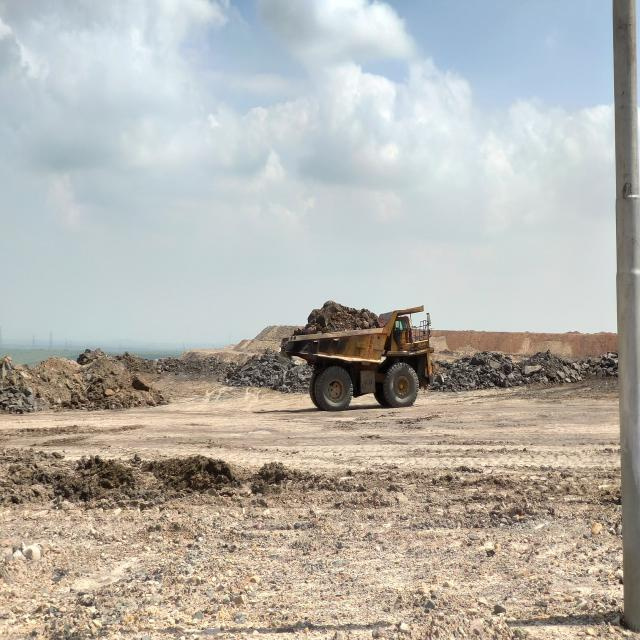dump_truck: (282, 308, 432, 414)
